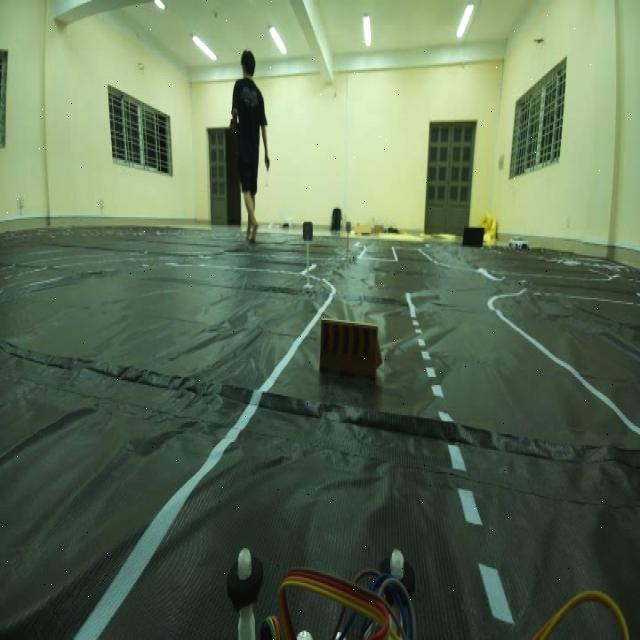roadblock: (313, 307, 392, 400)
